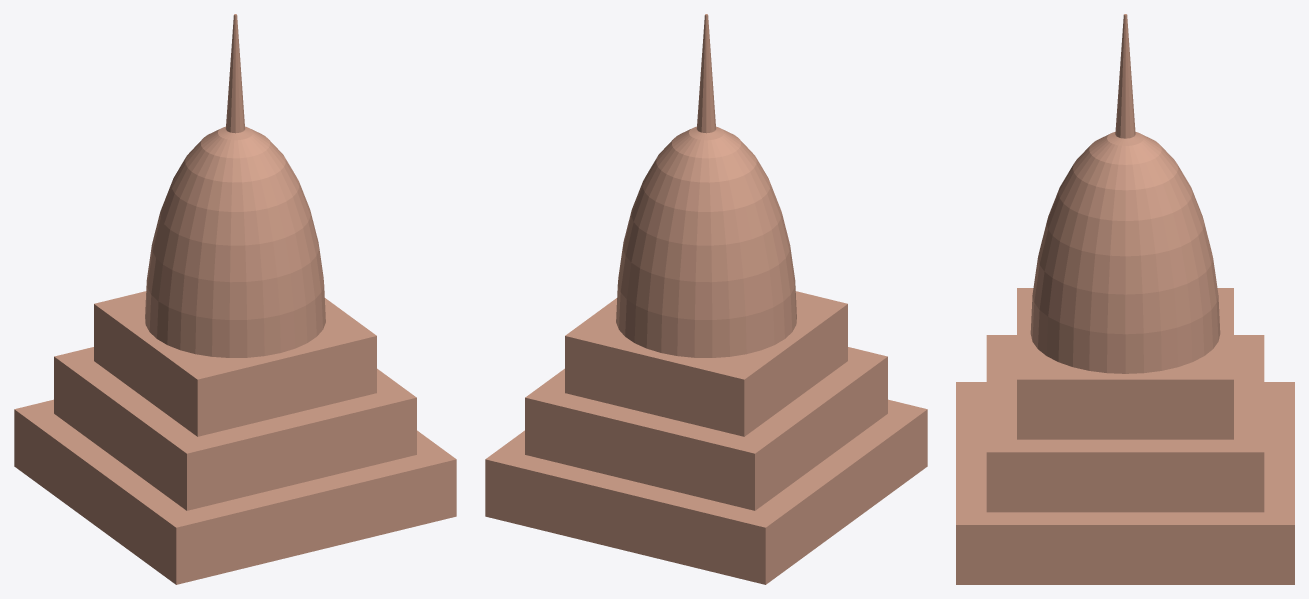
The model's file is place-phra-pathom-chedi.glb.
The picture shows the model from 3 angles, left to right: view 1: azimuth 30°, elevation 25°; view 2: azimuth 150°, elevation 25°; view 3: azimuth 270°, elevation 25°; orthographic projection. The views are drawn at different scales.
Visible parts, largest first — view 1: place-phra-pathom-chedi; view 2: place-phra-pathom-chedi; view 3: place-phra-pathom-chedi.
Part boxes in pixels (x1,y1,x2,y2): place-phra-pathom-chedi: (14,14,456,584); place-phra-pathom-chedi: (485,14,927,584); place-phra-pathom-chedi: (956,14,1294,584).
Size of the model in its own units: 74.17 by 120 by 74.17.
